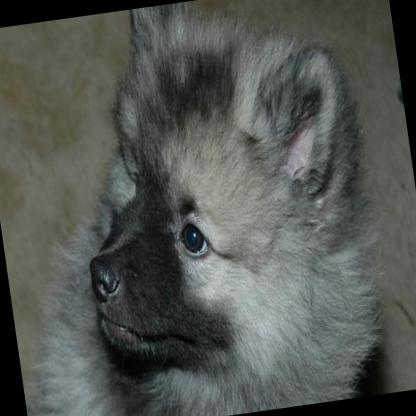keeshond: (0, 0, 395, 416)
